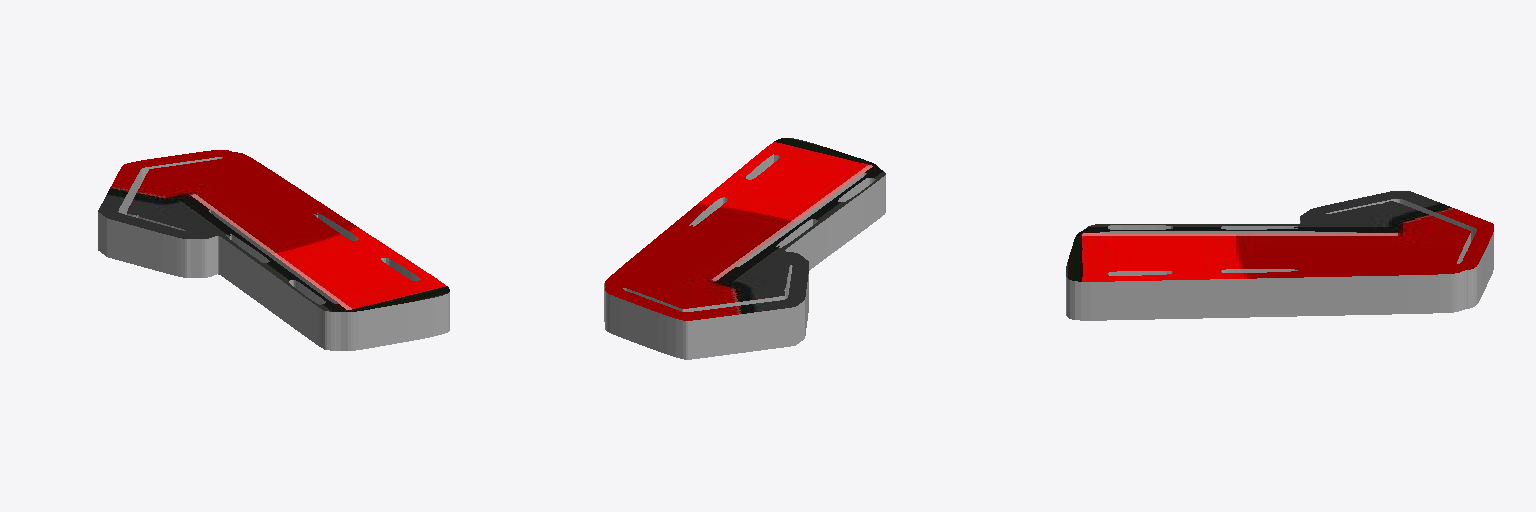
3 views of the same model, side by side, from view 1: azimuth 30°, elevation 25°; view 2: azimuth 150°, elevation 25°; view 3: azimuth 270°, elevation 25° (orthographic).
Visible parts, largest first — view 1: 1; view 2: 1; view 3: 1.
Boxes of the visible parts, <box> form: 1: <box>98,150,449,350</box>; 1: <box>604,138,885,359</box>; 1: <box>1066,191,1493,320</box>.
Bounding box in the file's own units: 10 × 2 × 20.
Materials: 2 (1 with a texture image).